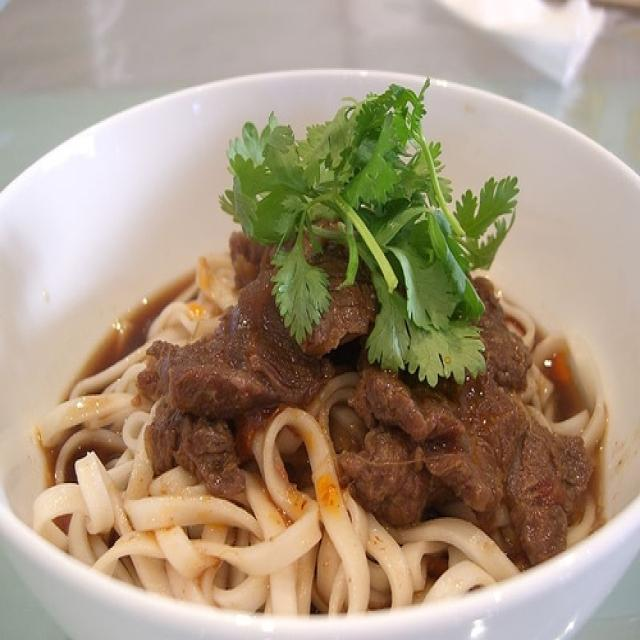面条主食: (4, 55, 627, 623)
